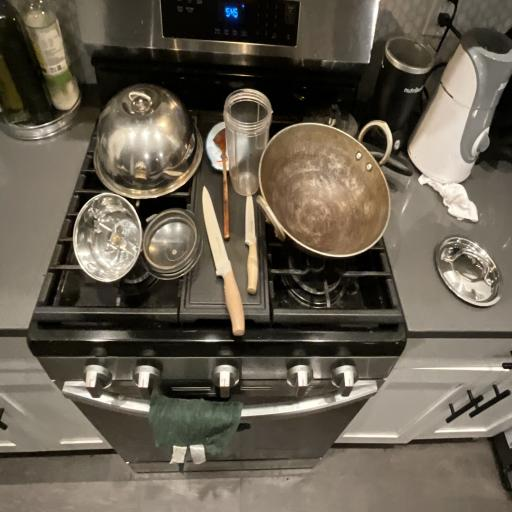Pan: (247, 111, 406, 267)
Stove: (56, 8, 438, 470)
knife: (191, 179, 257, 349), (236, 177, 270, 302)
